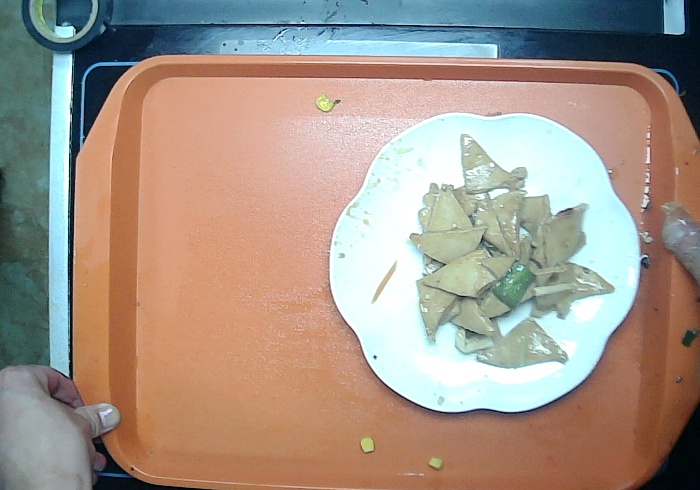HZYJPL-Bai_Se_Hua_Duo_Wan: (323, 107, 645, 420)
